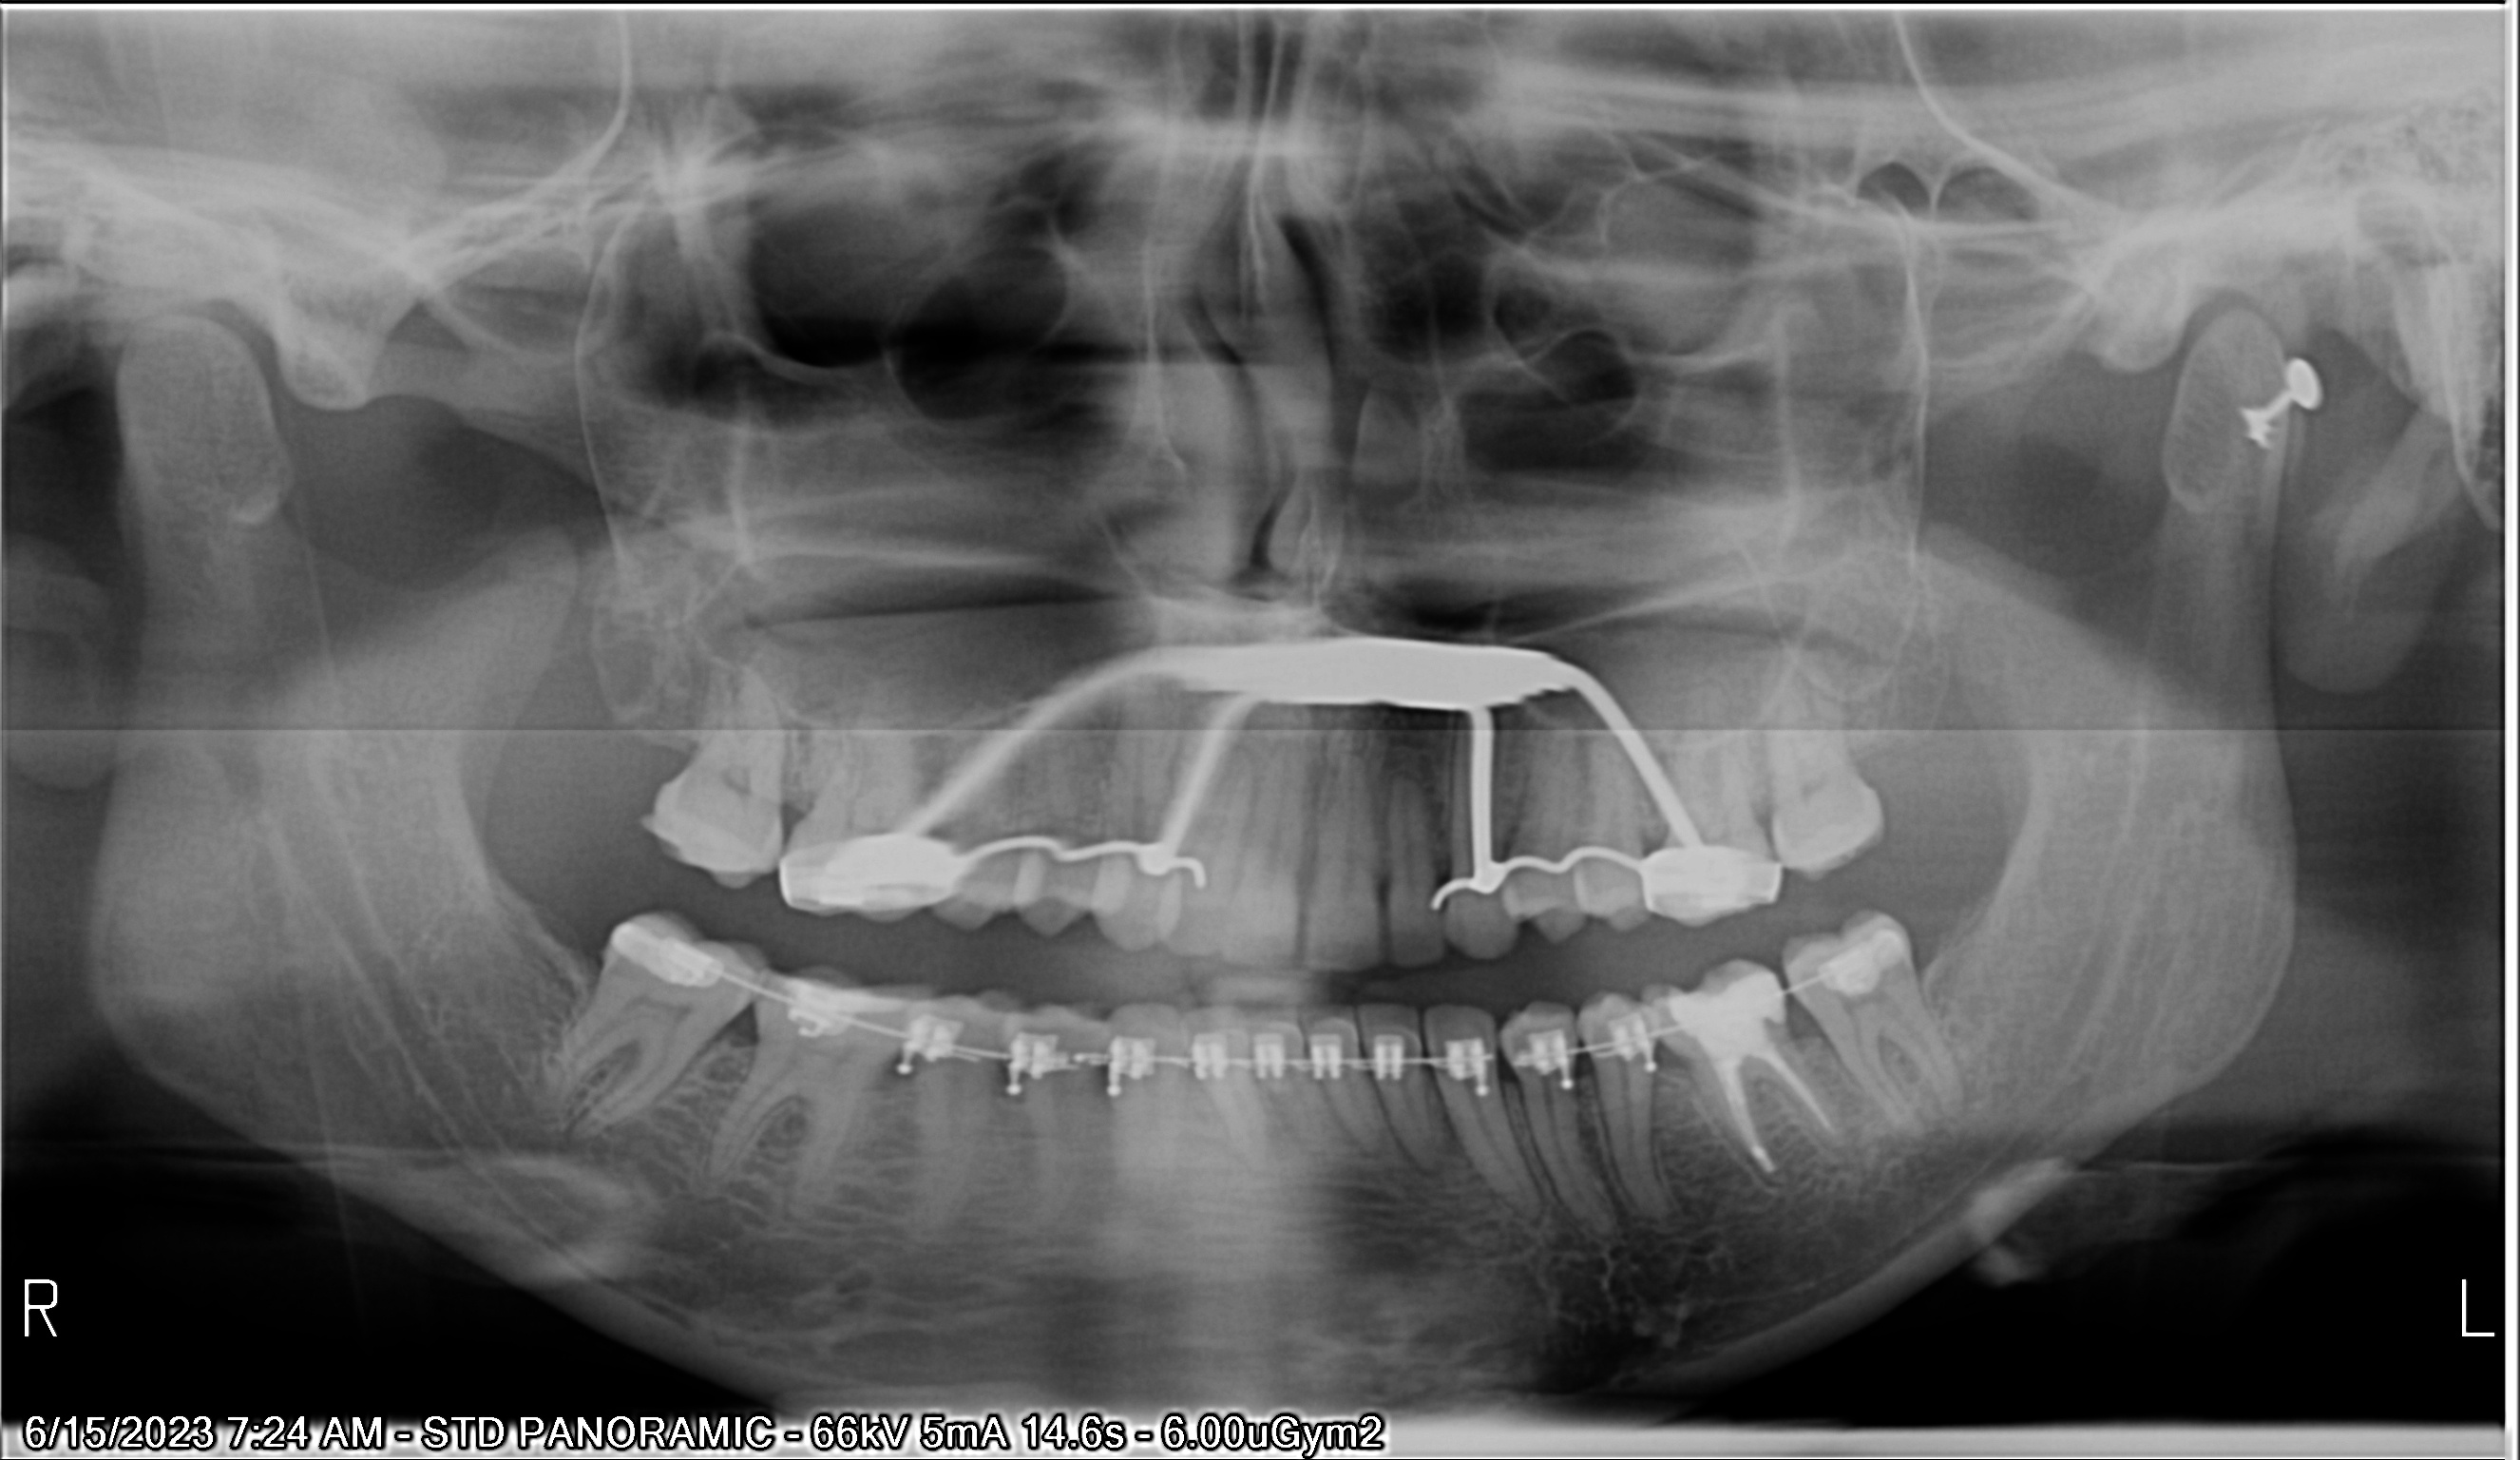END: (1690, 1071, 1778, 1185), (1761, 1050, 1846, 1138)
OBT: (1669, 977, 1791, 1057)
ORD: (780, 607, 1784, 959), (561, 906, 1969, 1083)
